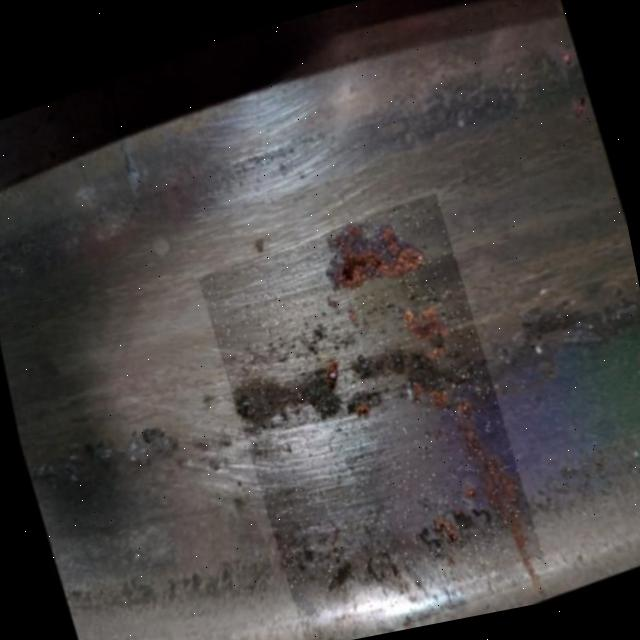Blue hole: (287, 182, 491, 309)
